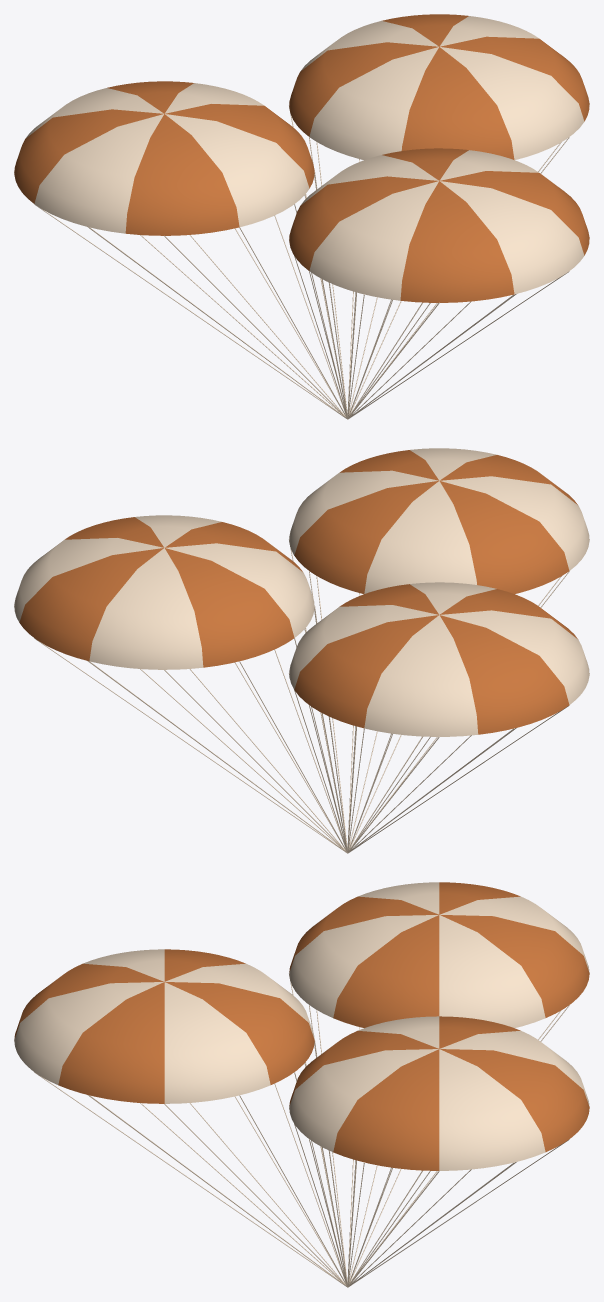
The model's file is orion_cm.parachutes_deployed.glb.
The picture shows the model from 3 angles, top to bottom: view 1: azimuth 30°, elevation 25°; view 2: azimuth 150°, elevation 25°; view 3: azimuth 270°, elevation 25°; orthographic projection.
Visible parts, largest first — view 1: orion_cm.parachutes_deployed.main_01.mesh_Parachute_canopy_f, orion_cm.parachutes_deployed.main_03.mesh_Parachute_canopy_f, orion_cm.parachutes_deployed.main_01.mesh_Spray-on_insulatio, orion_cm.parachutes_deployed.main_03.mesh_Spray-on_insulatio, orion_cm.parachutes_deployed.main_02.mesh_Parachute_canopy_f, orion_cm.parachutes_deployed.main_02.mesh_Spray-on_insulatio, orion_cm.parachutes_deployed.mesh_Parachute_canopy_fabric; view 2: orion_cm.parachutes_deployed.main_03.mesh_Spray-on_insulatio, orion_cm.parachutes_deployed.main_02.mesh_Spray-on_insulatio, orion_cm.parachutes_deployed.main_03.mesh_Parachute_canopy_f, orion_cm.parachutes_deployed.main_02.mesh_Parachute_canopy_f, orion_cm.parachutes_deployed.main_01.mesh_Spray-on_insulatio, orion_cm.parachutes_deployed.main_01.mesh_Parachute_canopy_f, orion_cm.parachutes_deployed.mesh_Parachute_canopy_fabric; view 3: orion_cm.parachutes_deployed.main_02.mesh_Spray-on_insulatio, orion_cm.parachutes_deployed.main_02.mesh_Parachute_canopy_f, orion_cm.parachutes_deployed.main_01.mesh_Parachute_canopy_f, orion_cm.parachutes_deployed.main_01.mesh_Spray-on_insulatio, orion_cm.parachutes_deployed.main_03.mesh_Spray-on_insulatio, orion_cm.parachutes_deployed.main_03.mesh_Parachute_canopy_f, orion_cm.parachutes_deployed.mesh_Parachute_canopy_fabric.
Part boxes in pixels (<box>): orion_cm.parachutes_deployed.main_01.mesh_Parachute_canopy_f: <box>301,150,584,300</box>; orion_cm.parachutes_deployed.main_03.mesh_Parachute_canopy_f: <box>26,83,309,233</box>; orion_cm.parachutes_deployed.main_01.mesh_Spray-on_insulatio: <box>289,148,589,302</box>; orion_cm.parachutes_deployed.main_03.mesh_Spray-on_insulatio: <box>14,81,314,235</box>; orion_cm.parachutes_deployed.main_02.mesh_Parachute_canopy_f: <box>300,16,584,159</box>; orion_cm.parachutes_deployed.main_02.mesh_Spray-on_insulatio: <box>289,14,589,159</box>; orion_cm.parachutes_deployed.mesh_Parachute_canopy_fabric: <box>14,105,589,419</box>; orion_cm.parachutes_deployed.main_03.mesh_Spray-on_insulatio: <box>294,584,578,734</box>; orion_cm.parachutes_deployed.main_02.mesh_Spray-on_insulatio: <box>19,517,302,667</box>; orion_cm.parachutes_deployed.main_03.mesh_Parachute_canopy_f: <box>289,582,589,736</box>; orion_cm.parachutes_deployed.main_02.mesh_Parachute_canopy_f: <box>14,515,314,669</box>; orion_cm.parachutes_deployed.main_01.mesh_Spray-on_insulatio: <box>294,450,577,593</box>; orion_cm.parachutes_deployed.main_01.mesh_Parachute_canopy_f: <box>289,448,589,593</box>; orion_cm.parachutes_deployed.mesh_Parachute_canopy_fabric: <box>14,539,589,853</box>; orion_cm.parachutes_deployed.main_02.mesh_Spray-on_insulatio: <box>289,1016,589,1170</box>; orion_cm.parachutes_deployed.main_02.mesh_Parachute_canopy_f: <box>289,1016,589,1170</box>; orion_cm.parachutes_deployed.main_01.mesh_Parachute_canopy_f: <box>14,949,314,1103</box>; orion_cm.parachutes_deployed.main_01.mesh_Spray-on_insulatio: <box>14,949,314,1103</box>; orion_cm.parachutes_deployed.main_03.mesh_Spray-on_insulatio: <box>289,882,589,1027</box>; orion_cm.parachutes_deployed.main_03.mesh_Parachute_canopy_f: <box>289,882,589,1028</box>; orion_cm.parachutes_deployed.mesh_Parachute_canopy_fabric: <box>14,973,589,1287</box>.
Size of the model in its own units: 72.67 by 39.63 by 67.67.
